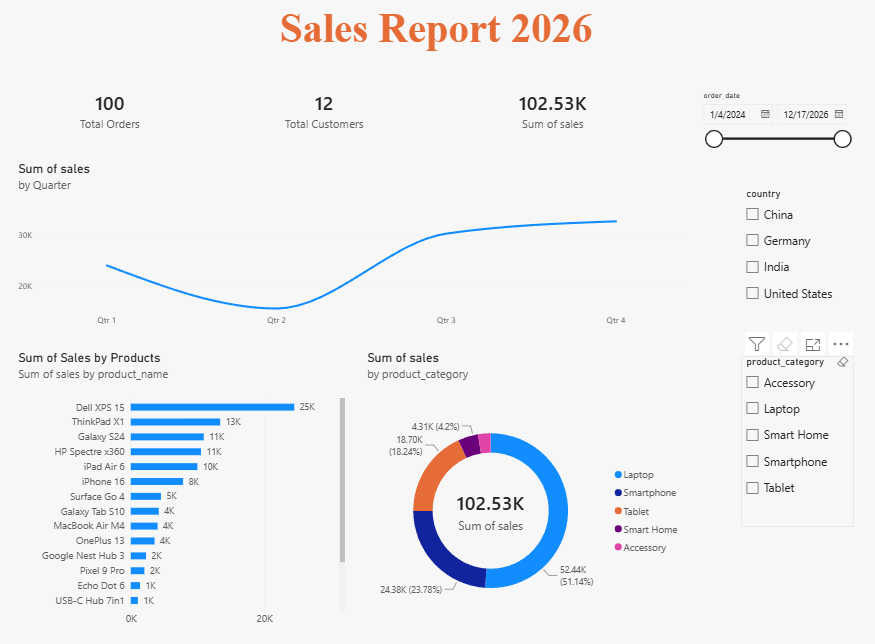

This screenshot's page, from the dashboard's own definition file:
{"tool":"powerbi","page":{"name":"Page 1","canvas":[1920,1080],"ordinal":0},"visuals":[{"type":"barChart","title":"Sum of Sales by Products ","fields":{"Category":["orders.product_name"],"Y":["Sum(orders.sales)"]},"box":[77.3,516.5,501.9,431.9],"z":0},{"type":"donutChart","fields":{"Category":["orders.product_category"],"Y":["Sum(orders.sales)"]},"box":[579.2,516.5,487.3,431.9],"z":1000},{"type":"lineChart","fields":{"Category":["orders.order_date.Variation.Date Hierarchy.Year","orders.order_date.Variation.Date Hierarchy.Quarter","orders.order_date.Variation.Date Hierarchy.Month","orders.order_date.Variation.Date Hierarchy.Day"],"Y":["Sum(orders.sales)"]},"box":[77.7,244.5,989.5,271.8],"z":2000},{"type":"cardVisual","fields":{"Data":["CountNonNull(orders.order_id)"]},"box":[77.7,142.4,296.3,86.3],"z":3000},{"type":"cardVisual","fields":{"Data":["CountNonNull(customers.customer_id)"]},"box":[373.9,142.4,320.7,86.3],"z":4000},{"type":"cardVisual","fields":{"Data":["Sum(orders.sales)"]},"box":[694.7,142.4,336.5,86.3],"z":5000},{"type":"slicer","fields":{"Values":["customers.country"]},"box":[1133.3,297.7,162.5,204.2],"z":6000},{"type":"slicer","fields":{"Values":["orders.product_category"]},"box":[1133.3,539.3,162.5,245.9],"z":7000},{"type":"slicer","fields":{"Values":["orders.order_date"]},"box":[1071.5,158.2,224.4,139.5],"z":8000},{"type":"textbox","box":[464.5,34.5,460.2,70.5],"z":9000}]}

Visuals, with their boxes on the page's 1920x1080 design canvas (x1, y1, x2, y2). These are canvas units, not pixel positions in the 875x644 screenshot, which may show the page scaled, cropped or inside an application window:
"Sum of Sales by Products " barChart: [left=77, top=516, right=579, bottom=948]
donutChart - orders.product_category x Sum(orders.sales): [left=579, top=516, right=1066, bottom=948]
lineChart - orders.order_date.Variation.Date Hierarchy.Year x orders.order_date.Variation.Date Hierarchy.Quarter: [left=78, top=244, right=1067, bottom=516]
cardVisual - CountNonNull(orders.order_id): [left=78, top=142, right=374, bottom=229]
cardVisual - CountNonNull(customers.customer_id): [left=374, top=142, right=695, bottom=229]
cardVisual - Sum(orders.sales): [left=695, top=142, right=1031, bottom=229]
slicer - customers.country: [left=1133, top=298, right=1296, bottom=502]
slicer - orders.product_category: [left=1133, top=539, right=1296, bottom=785]
slicer - orders.order_date: [left=1072, top=158, right=1296, bottom=298]
textbox: [left=464, top=34, right=925, bottom=105]
